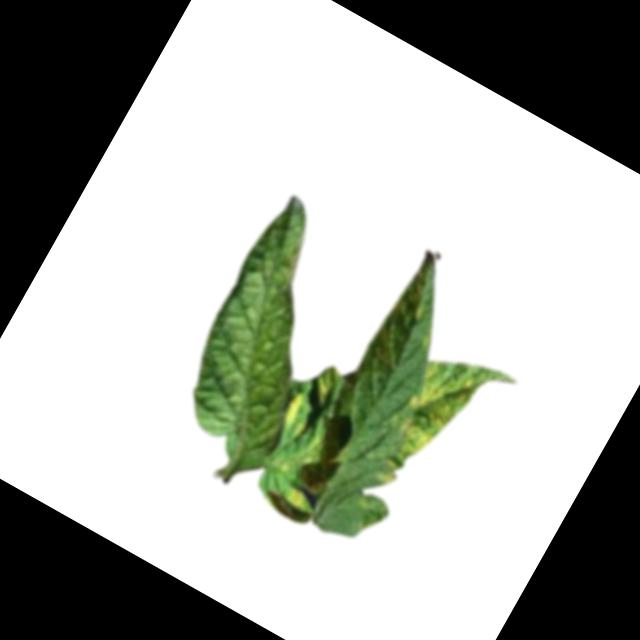Leaf_Mold: (364, 346, 485, 501), (272, 388, 317, 443), (308, 363, 344, 404)
